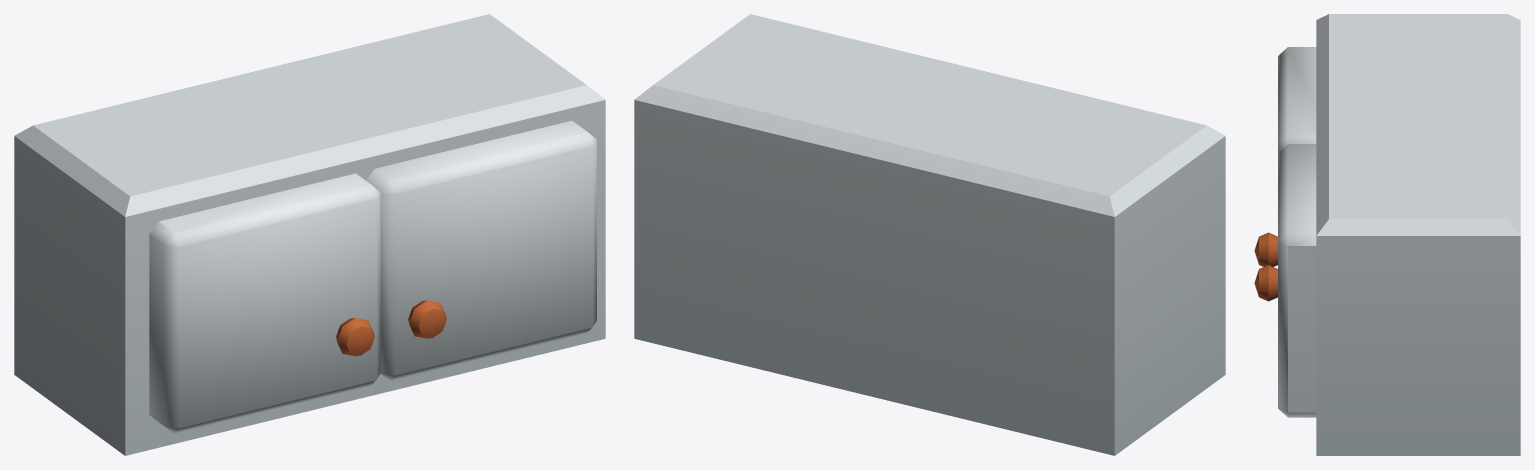
File: kitchencabinet_half.obj
3 renders of one model, left to right at view 1: azimuth 30°, elevation 25°; view 2: azimuth 150°, elevation 25°; view 3: azimuth 270°, elevation 25°, orthographic. The views are drawn at different scales.
Parts seen in each view (by area): view 1: kitchencabinet_half_Cube.222; view 2: kitchencabinet_half_Cube.222; view 3: kitchencabinet_half_Cube.222.
Boxes of the visible parts, left/top/right/bottom form: kitchencabinet_half_Cube.222: left=14, top=14, right=605, bottom=455; kitchencabinet_half_Cube.222: left=634, top=14, right=1225, bottom=455; kitchencabinet_half_Cube.222: left=1254, top=14, right=1520, bottom=455.
Size of the model in its own units: 2 by 1 by 1.04.
1 material, 1 textured.
